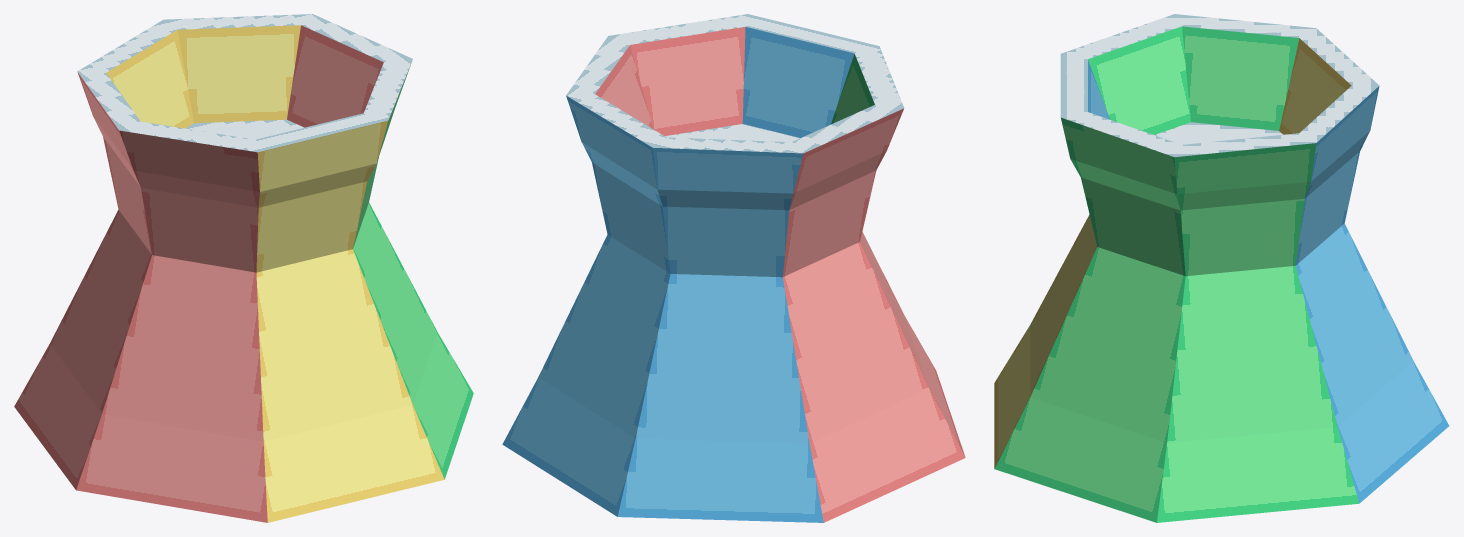
The model's file is steam_stack.gltf.
3 renders of one model, left to right at view 1: azimuth 30°, elevation 25°; view 2: azimuth 150°, elevation 25°; view 3: azimuth 270°, elevation 25°, orthographic.
Parts seen in each view (by area): view 1: cylinder; view 2: cylinder; view 3: cylinder.
Part boxes in pixels (x1=…): cylinder: x1=14, y1=14, x2=473, y2=522; cylinder: x1=502, y1=14, x2=965, y2=522; cylinder: x1=994, y1=14, x2=1449, y2=522.
Size of the model in its own units: 3.21 by 2.62 by 3.18.
Materials: 1 (1 with a texture image).
